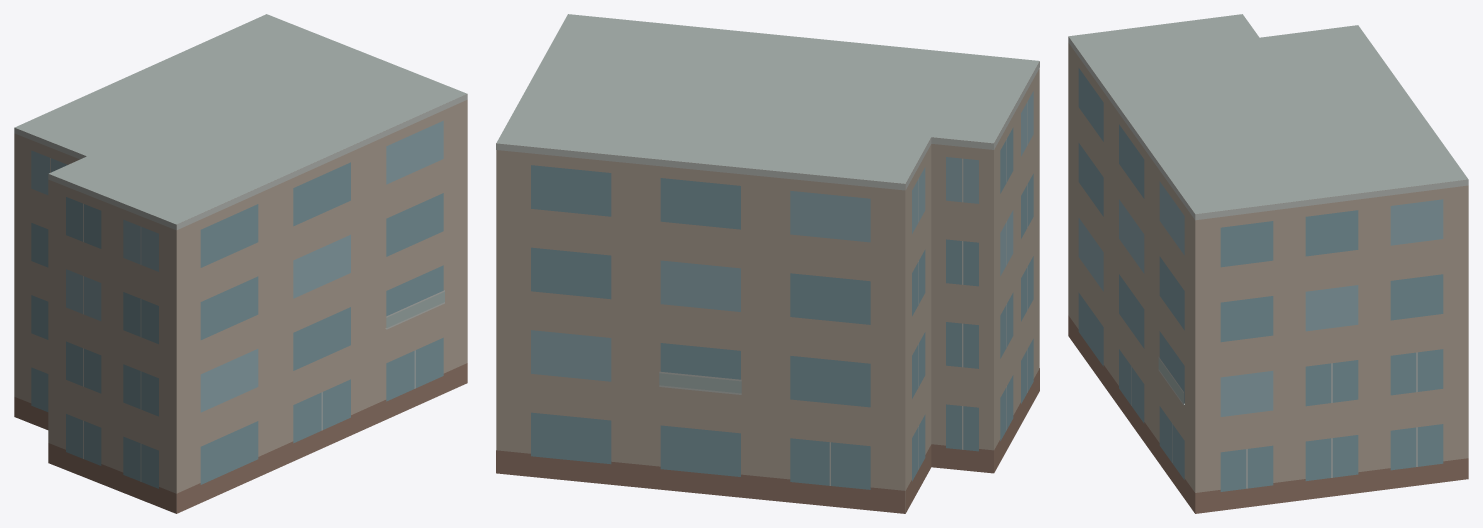
The model's file is residential-287853b3-34c3-4f9a-b783-3089feee2f74.glb.
The picture shows the model from 3 angles, left to right: view 1: azimuth 30°, elevation 25°; view 2: azimuth 150°, elevation 25°; view 3: azimuth 270°, elevation 25°; orthographic projection. The views are drawn at different scales.
Parts seen in each view (by area): view 1: residential-287853b3-34c3-4f9a-b783-3089feee2f74.tmp; view 2: residential-287853b3-34c3-4f9a-b783-3089feee2f74.tmp; view 3: residential-287853b3-34c3-4f9a-b783-3089feee2f74.tmp.
Boxes of the visible parts, x1,y1,x2,y2 form: residential-287853b3-34c3-4f9a-b783-3089feee2f74.tmp: [14, 14, 467, 513]; residential-287853b3-34c3-4f9a-b783-3089feee2f74.tmp: [496, 14, 1039, 513]; residential-287853b3-34c3-4f9a-b783-3089feee2f74.tmp: [1068, 14, 1468, 513].
Bounding box in the file's own units: 17.5 × 12.2 × 14.78.
